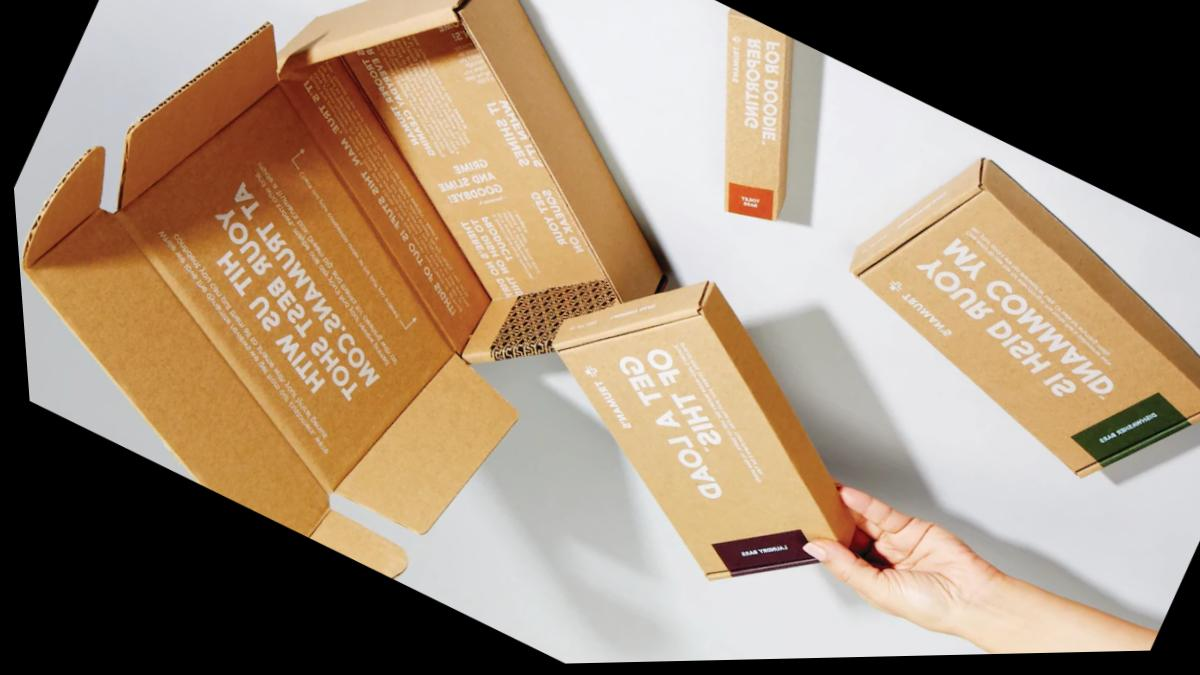cardboard: (0, 0, 780, 641), (481, 237, 924, 627), (794, 117, 1200, 528), (640, 5, 869, 244)
